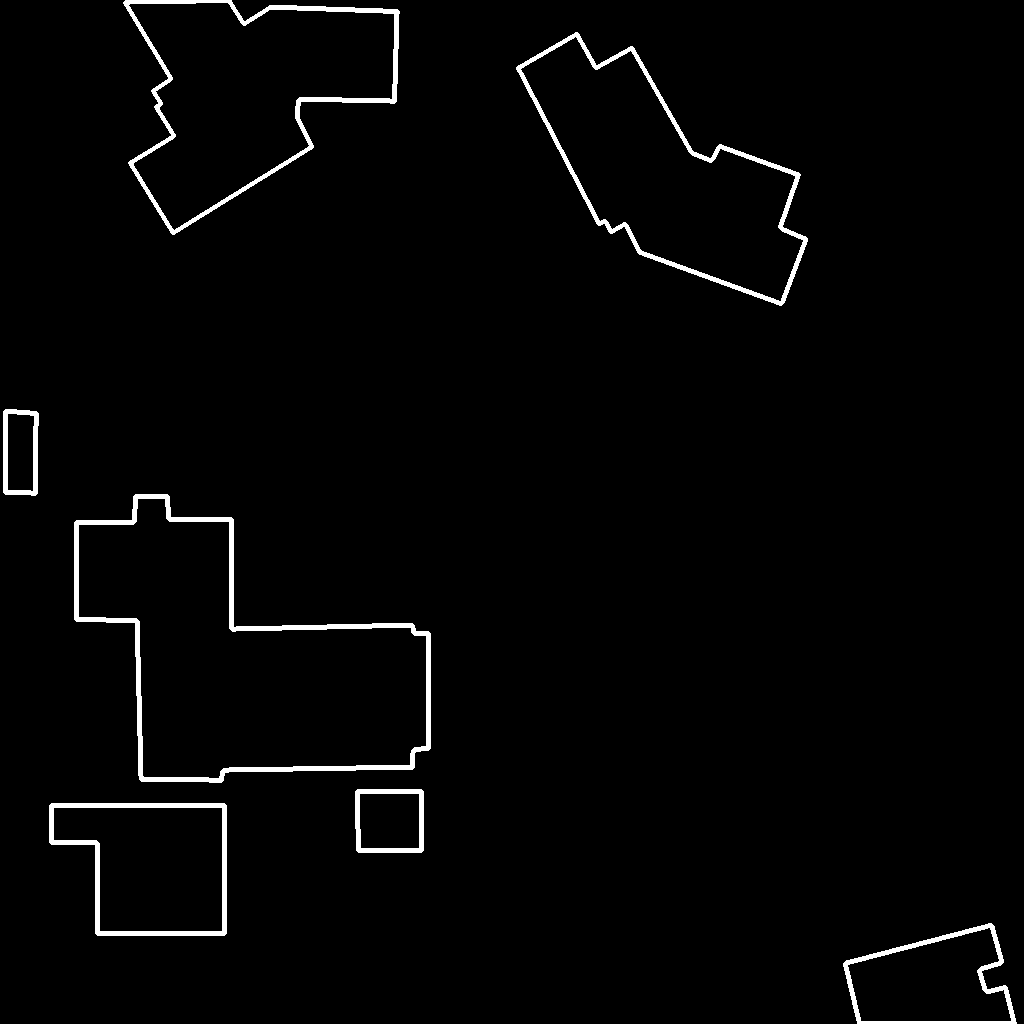building: (76, 496, 429, 781), (518, 34, 807, 305), (124, 0, 398, 234), (51, 805, 226, 934), (845, 925, 1016, 1024), (357, 791, 423, 851), (5, 411, 37, 494)
